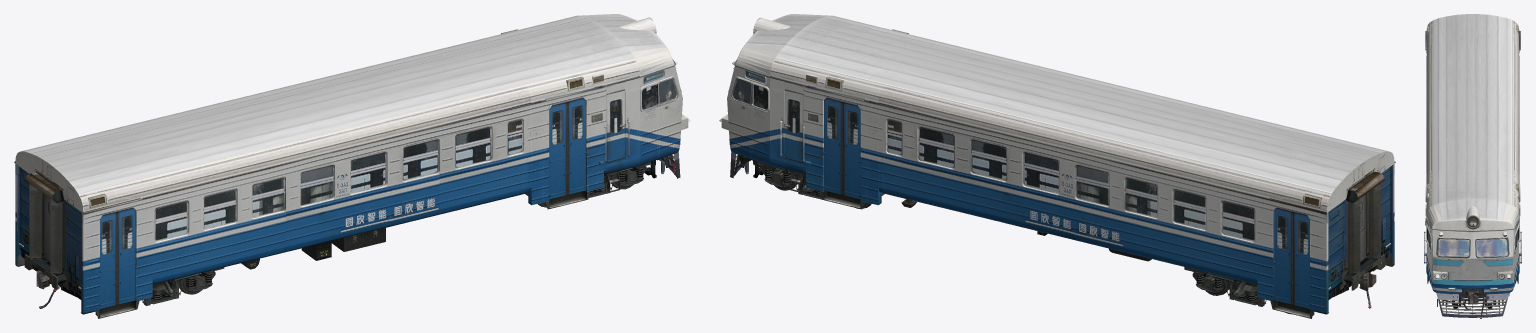
File: train_1005_01.obj
The picture shows the model from 3 angles, left to right: view 1: azimuth 30°, elevation 25°; view 2: azimuth 150°, elevation 25°; view 3: azimuth 270°, elevation 25°; orthographic projection. The views are drawn at different scales.
Visible parts, largest first — view 1: train_ht_1005_01; view 2: train_ht_1005_01; view 3: train_ht_1005_01.
Boxes of the visible parts, box(x1,y1,x2,y2) form: train_ht_1005_01: box(14, 14, 690, 318); train_ht_1005_01: box(719, 14, 1395, 318); train_ht_1005_01: box(1424, 14, 1521, 318).
Bounding box in the file's own units: 182 × 41.67 × 35.56.
7 materials, 7 textured.
